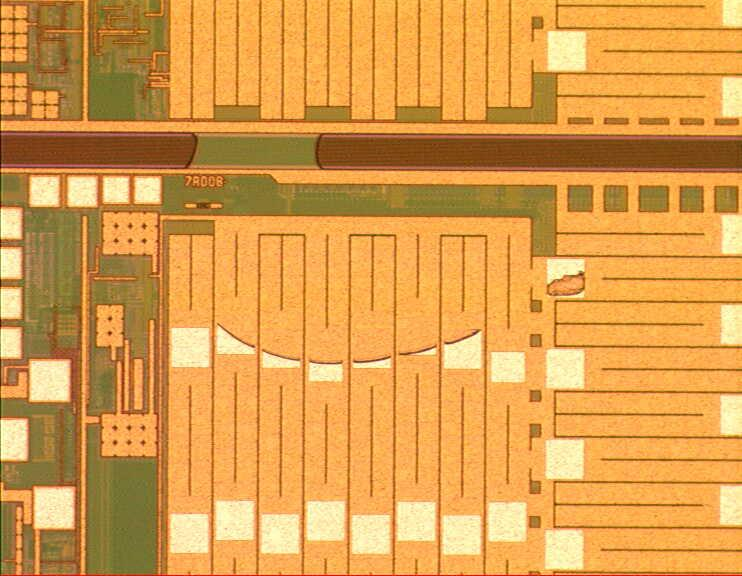BLOCK ETCH: (165, 250, 595, 373)
